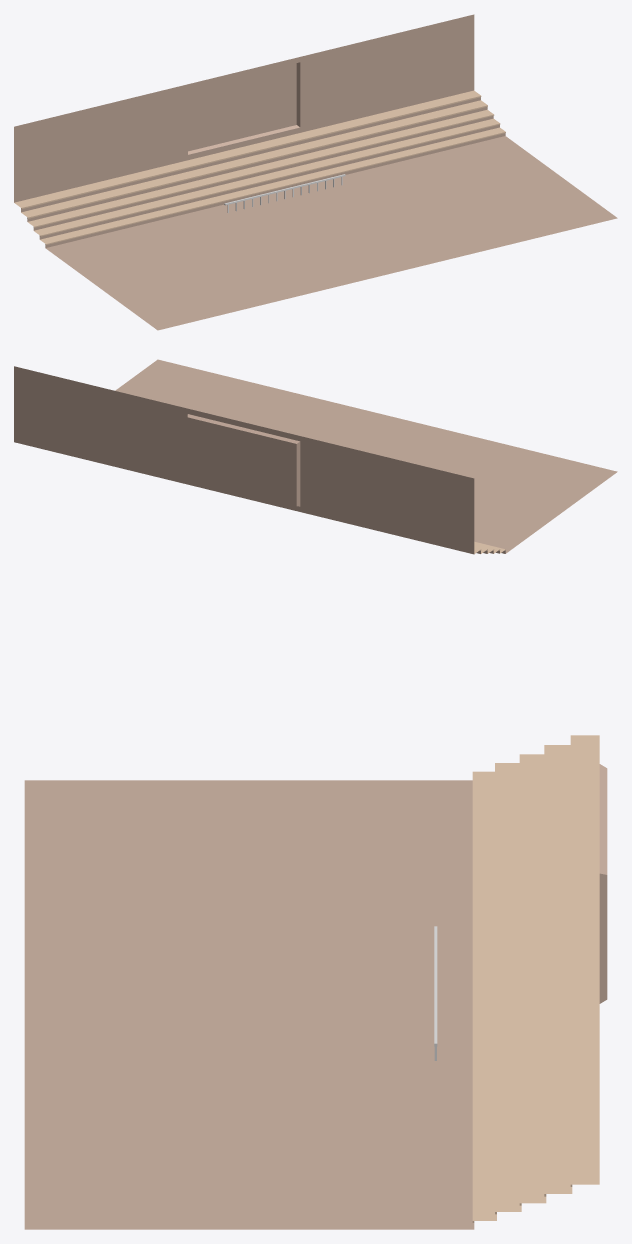
File: Stadium.fbx
3 renders of one model, top to bottom at view 1: azimuth 30°, elevation 25°; view 2: azimuth 150°, elevation 25°; view 3: azimuth 270°, elevation 25°, orthographic. The views are drawn at different scales.
Visible parts, largest first — view 1: Stadium, Stadium.001, Fence; view 2: Stadium, Stadium.001; view 3: Stadium.001, Stadium.
Part boxes in pixels (x1,y1,x2,y2): Stadium: (14,14,505,247); Stadium.001: (45,136,617,330); Fence: (224,174,345,213); Stadium: (14,366,505,554); Stadium.001: (115,359,617,553); Stadium.001: (24,780,474,1229); Stadium: (472,735,607,1222).
Size of the model in its own units: 3319 by 682 by 1821.
